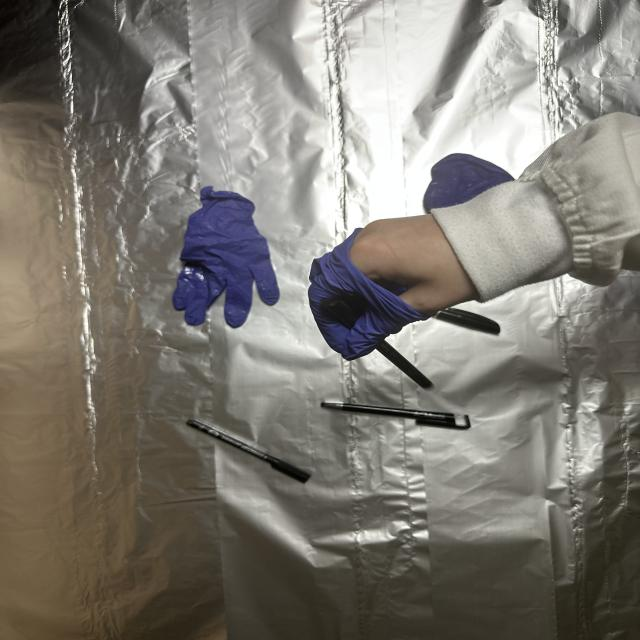glove_partial: (306, 215, 486, 360)
